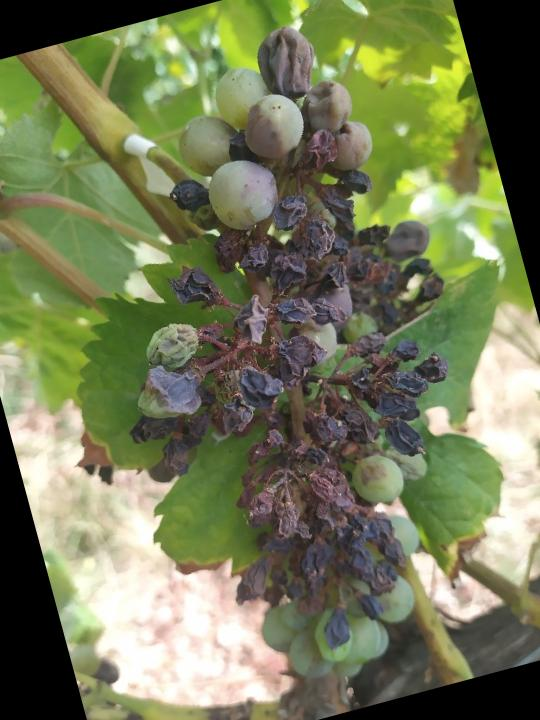grape: (34, 0, 540, 719)
